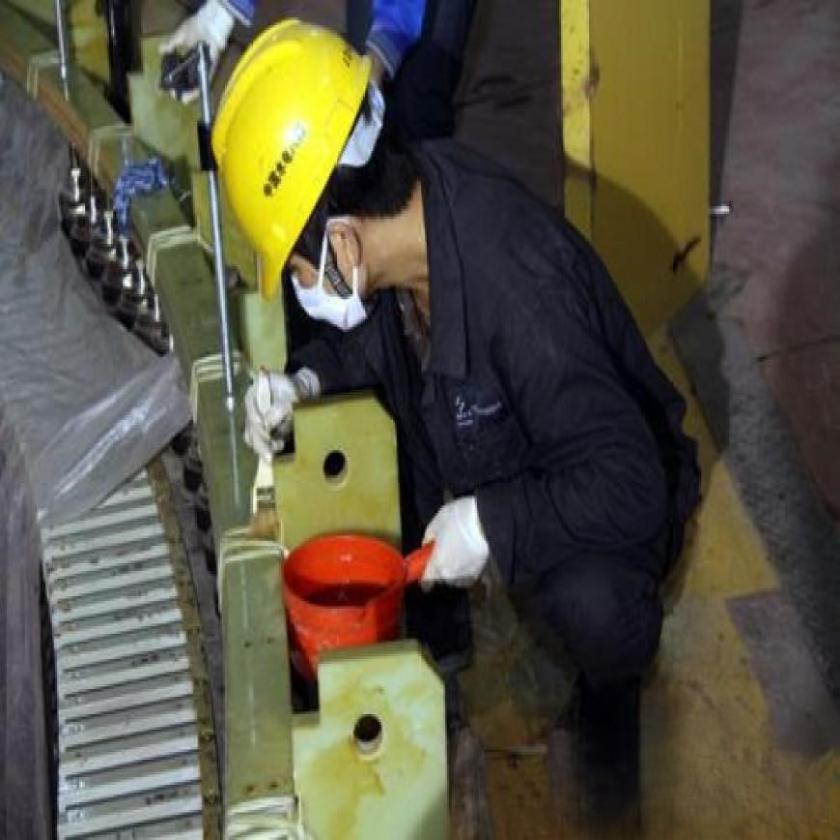Con_casco: (186, 12, 444, 347)
